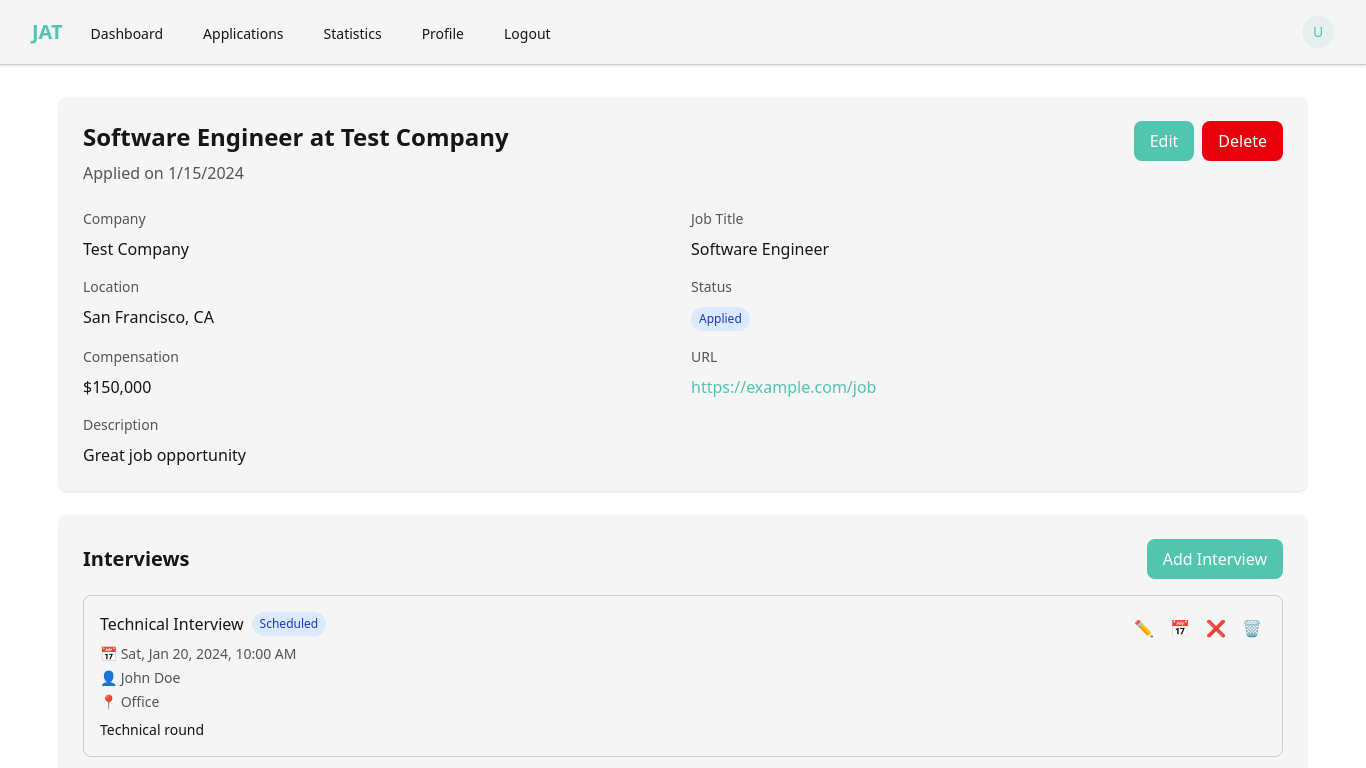
Test case: ApplicationDetail Component › Interviews Section › should show add interview form when button is clicked
expect the text "Software Engineer" is shown: met, box [691,238,829,260]
Click the button "Add Interview". click: (1215, 559)
box: [1147,539,1283,579]
(page scrolled)
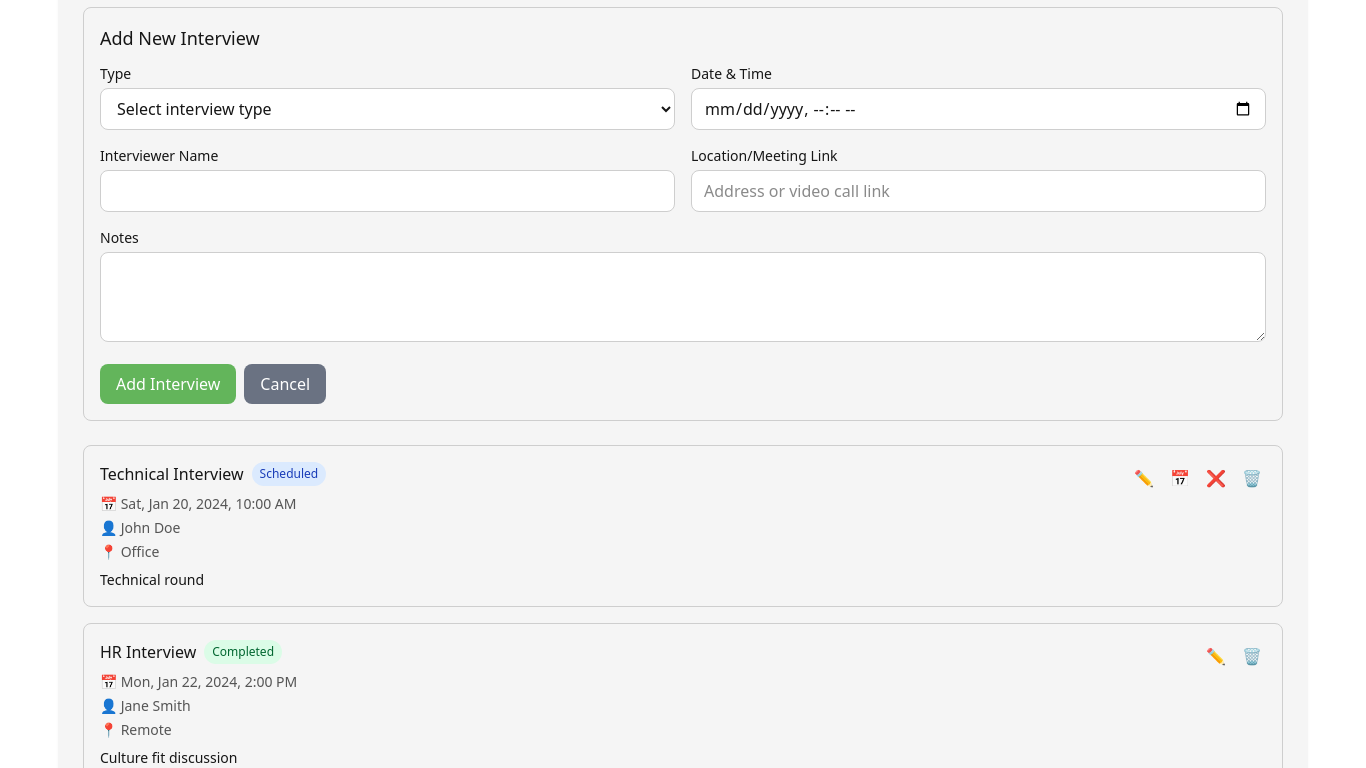
expect the dropdown is shown: met, box [100,88,675,130]
expect the button "Cancel" is shown: met, box [244,364,326,404]
